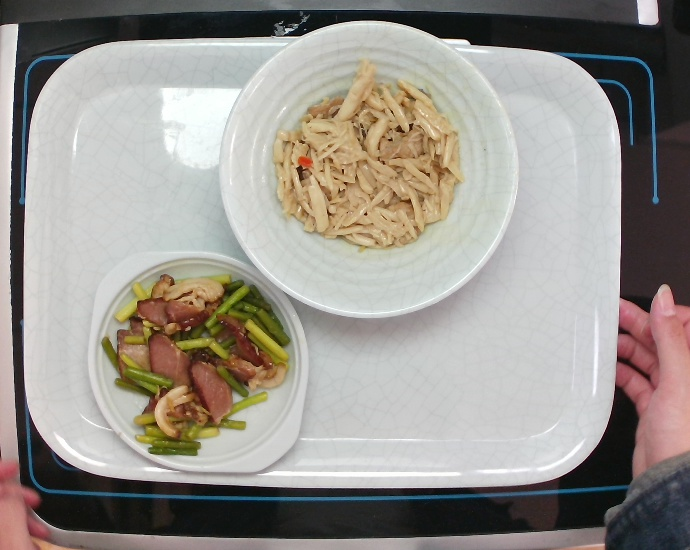JYsf-Shuang_Er_Pan: (79, 243, 312, 479)
JYsf-Xiao_Tang_Wan: (215, 15, 523, 325)
